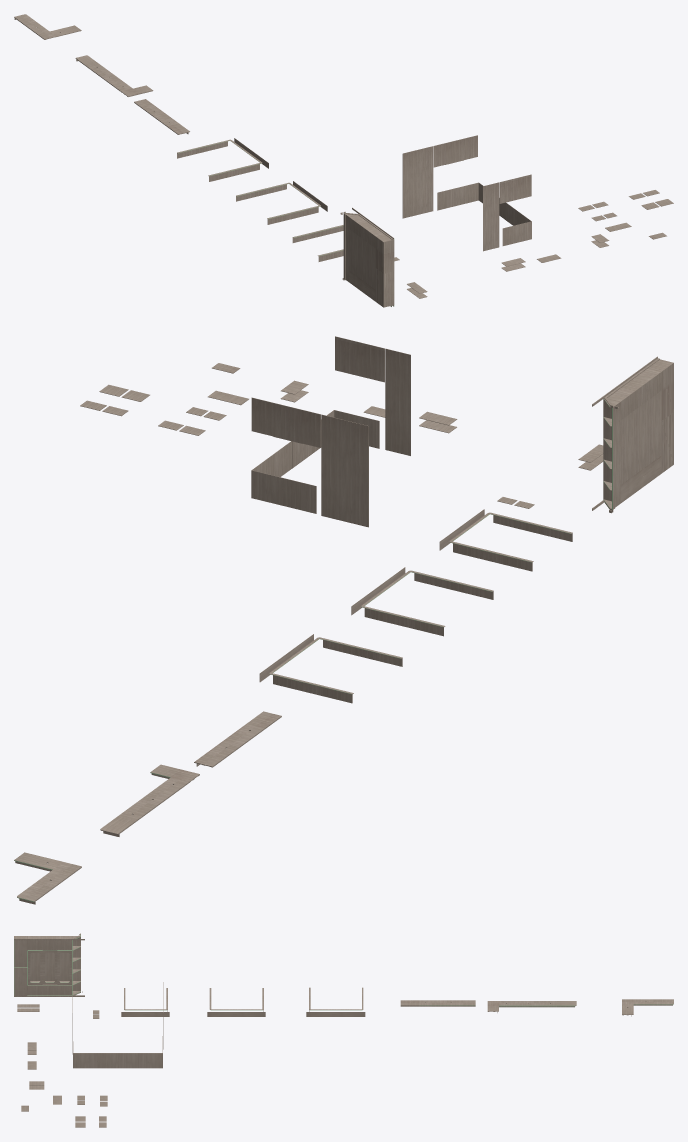
3 views of the same model, one above another, from view 1: azimuth 30°, elevation 25°; view 2: azimuth 150°, elevation 25°; view 3: azimuth 270°, elevation 25° (orthographic). The views are drawn at different scales.
Visible parts, largest first — view 1: Geom3D_ABF_PART_96____LYR_[Layer0]____96. TỦ LẠNH-HẬU, Geom3D_ABF_PART_97____LYR_[Layer0]____97. bếp TỦ ĐỨNG-HẬU, Geom3D_ABF_PART_98____LYR_[Layer0]____98. BẾPT2-HẬU, Geom3D_ABF_PART_99____LYR_[Layer0]____99. BẾPT1-HẬU, Geom3D_ABF_PART_148____LYR_[Layer0]____148. BẾPD2-HẬU, Geom3D_ABF_PART_110____LYR_[Layer0]____110. BẾPD4-HẬU; view 2: Geom3D_ABF_PART_96____LYR_[Layer0]____96. TỦ LẠNH-HẬU, Geom3D_ABF_PART_97____LYR_[Layer0]____97. bếp TỦ ĐỨNG-HẬU, Geom3D_ABF_PART_98____LYR_[Layer0]____98. BẾPT2-HẬU, Geom3D_ABF_PART_99____LYR_[Layer0]____99. BẾPT1-HẬU, Geom3D_ABF_PART_148____LYR_[Layer0]____148. BẾPD2-HẬU, Geom3D_ABF_PART_510____LYR_[Layer0]____510. TỦ GIÀY-[2]HẬU, Geom3D_ABF_PART_62____LYR_[Layer0]____62. TỦ GIÀY-[2]HẬU, Geom3D_ABF_PART_63____LYR_[Layer0]____63. TỦ GIÀY-[2]HẬU, Geom3D_ABF_PART_60____LYR_[Layer0]____60. TỦ GIÀY-[2]HẬU-MOD; view 3: Geom3D_ABF_PART_109____LYR_[Layer0]____109. BẾPD4-HẬU, Geom3D_ABF_PART_526____LYR_[CANH]____526. TỦ GIÀY-[3]CÁNH VÁ, Geom3D_ABF_PART_147____LYR_[Layer0]____147. BẾPD2-HẬU, Geom3D_ABF_PART_81____LYR_[Layer0]____81. TỦ GIÀY-[1]HẬU, Geom3D_ABF_PART_530____LYR_[CANH]____530. TỦ GIÀY-[3]CÁNH VÁ, Geom3D_ABF_PART_145____LYR_[Layer0]____145. BẾPD3-HẬU, Geom3D_ABF_PART_510____LYR_[Layer0]____510. TỦ GIÀY-[2]HẬU, Geom3D_ABF_PART_63____LYR_[Layer0]____63. TỦ GIÀY-[2]HẬU.
Boxes of the visible parts, x1,y1,x2,y2 form: Geom3D_ABF_PART_96____LYR_[Layer0]____96. TỦ LẠNH-HẬU: (402, 146, 433, 218); Geom3D_ABF_PART_97____LYR_[Layer0]____97. bếp TỦ ĐỨNG-HẬU: (483, 182, 499, 251); Geom3D_ABF_PART_98____LYR_[Layer0]____98. BẾPT2-HẬU: (433, 135, 477, 167); Geom3D_ABF_PART_99____LYR_[Layer0]____99. BẾPT1-HẬU: (499, 174, 531, 203); Geom3D_ABF_PART_148____LYR_[Layer0]____148. BẾPD2-HẬU: (445, 182, 478, 208); Geom3D_ABF_PART_110____LYR_[Layer0]____110. BẾPD4-HẬU: (502, 221, 531, 245); Geom3D_ABF_PART_96____LYR_[Layer0]____96. TỦ LẠNH-HẬU: (321, 414, 368, 527); Geom3D_ABF_PART_97____LYR_[Layer0]____97. bếp TỦ ĐỨNG-HẬU: (385, 348, 410, 455); Geom3D_ABF_PART_98____LYR_[Layer0]____98. BẾPT2-HẬU: (251, 397, 320, 447); Geom3D_ABF_PART_99____LYR_[Layer0]____99. BẾPT1-HẬU: (335, 336, 384, 382); Geom3D_ABF_PART_148____LYR_[Layer0]____148. BẾPD2-HẬU: (251, 470, 303, 510); Geom3D_ABF_PART_510____LYR_[Layer0]____510. TỦ GIÀY-[2]HẬU: (647, 391, 661, 464); Geom3D_ABF_PART_62____LYR_[Layer0]____62. TỦ GIÀY-[2]HẬU: (634, 401, 647, 475); Geom3D_ABF_PART_63____LYR_[Layer0]____63. TỦ GIÀY-[2]HẬU: (620, 411, 633, 484); Geom3D_ABF_PART_60____LYR_[Layer0]____60. TỦ GIÀY-[2]HẬU-MOD: (620, 371, 661, 419); Geom3D_ABF_PART_109____LYR_[Layer0]____109. BẾPD4-HẬU: (73, 1053, 118, 1068); Geom3D_ABF_PART_526____LYR_[CANH]____526. TỦ GIÀY-[3]CÁNH VÁ: (14, 967, 27, 995); Geom3D_ABF_PART_147____LYR_[Layer0]____147. BẾPD2-HẬU: (138, 1053, 162, 1068); Geom3D_ABF_PART_81____LYR_[Layer0]____81. TỦ GIÀY-[1]HẬU: (72, 937, 80, 990); Geom3D_ABF_PART_530____LYR_[CANH]____530. TỦ GIÀY-[3]CÁNH VÁ: (14, 940, 27, 966); Geom3D_ABF_PART_145____LYR_[Layer0]____145. BẾPD3-HẬU: (118, 1053, 138, 1068); Geom3D_ABF_PART_510____LYR_[Layer0]____510. TỦ GIÀY-[2]HẬU: (30, 953, 40, 980); Geom3D_ABF_PART_63____LYR_[Layer0]____63. TỦ GIÀY-[2]HẬU: (59, 953, 69, 980).
Size of the model in its own units: 12.52 by 2.5 by 25.63.
9 materials, 1 textured.
